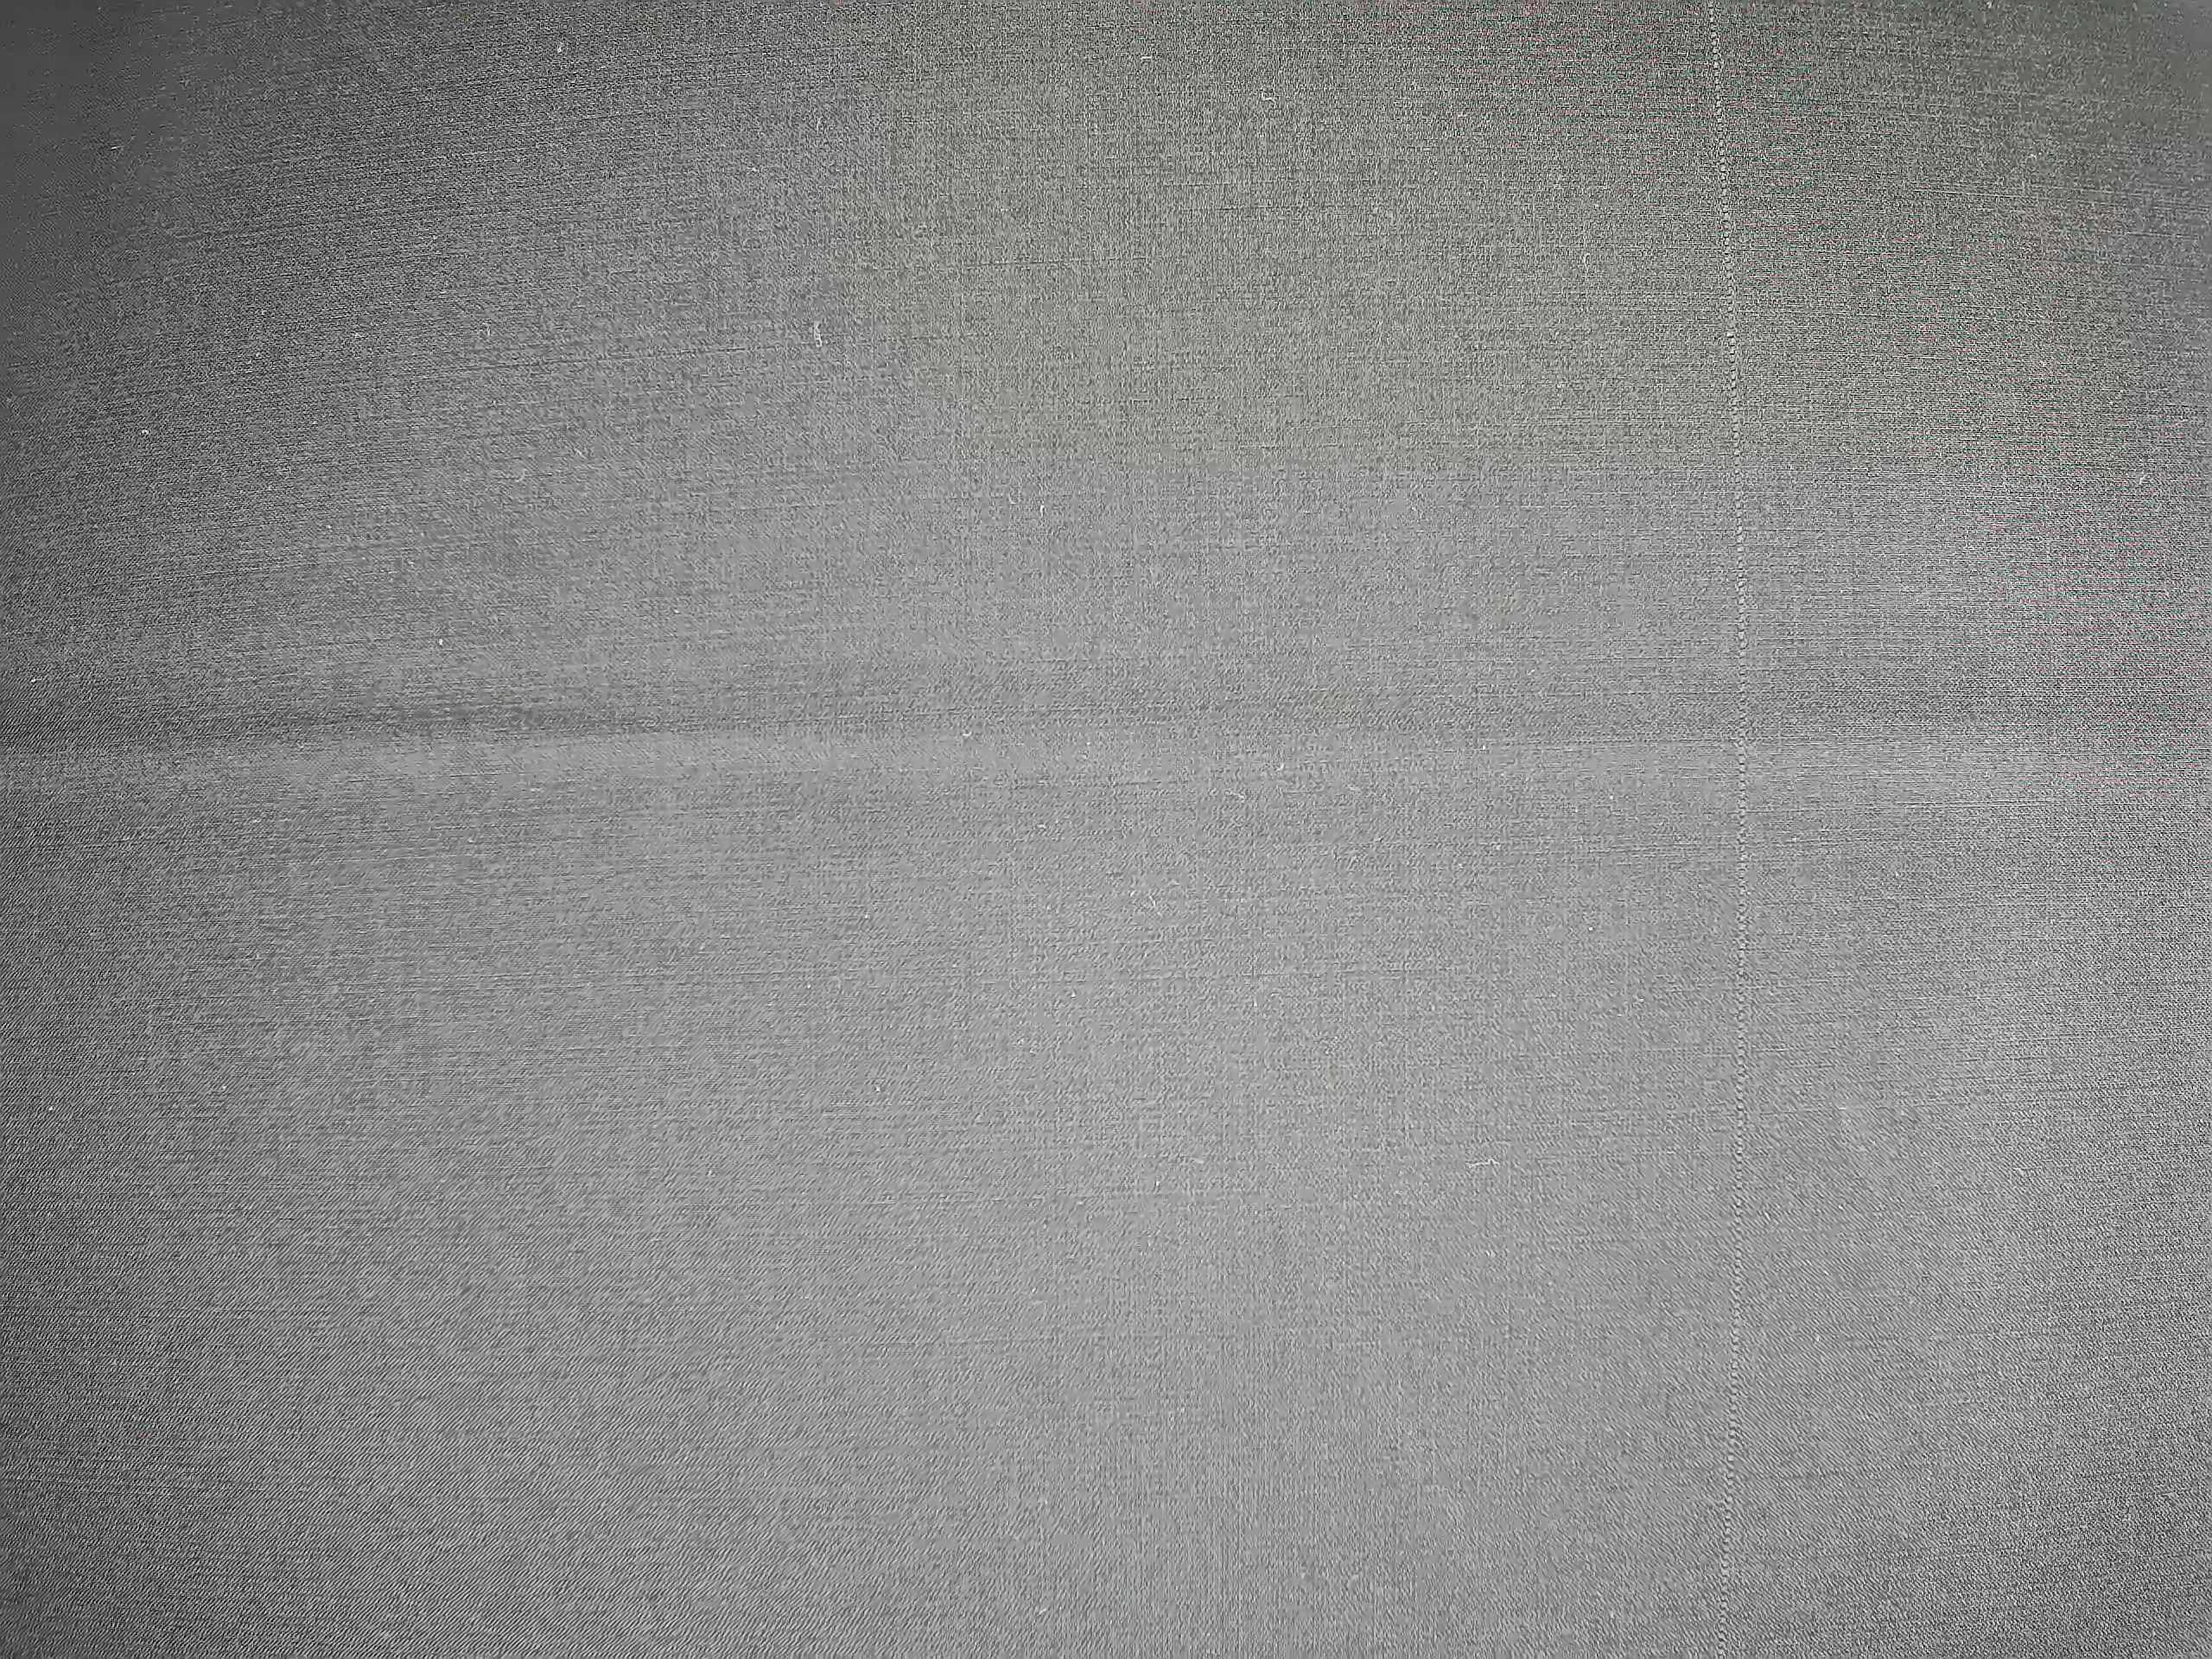lacking-warp: (1703, 5, 1756, 1652)
